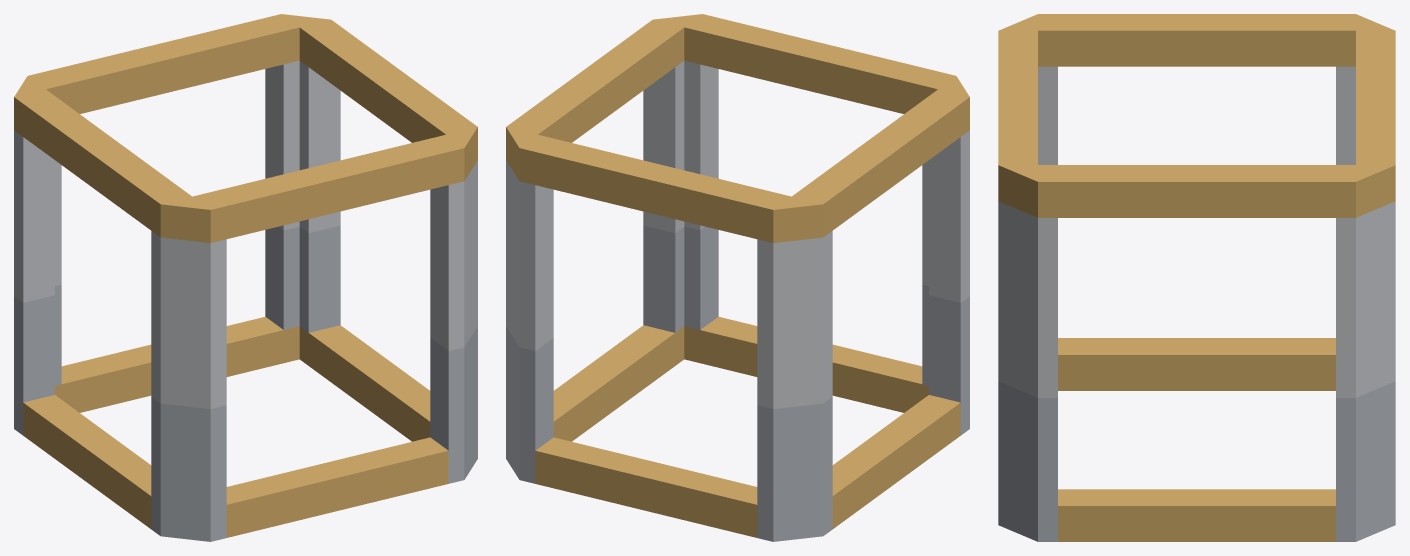
File: structure_detailed.glb
3 renders of one model, left to right at view 1: azimuth 30°, elevation 25°; view 2: azimuth 150°, elevation 25°; view 3: azimuth 270°, elevation 25°, orthographic. The views are drawn at different scales.
Visible parts, largest first — view 1: structure_detailed; view 2: structure_detailed; view 3: structure_detailed.
Boxes of the visible parts, x1,y1,x2,y2 form: structure_detailed: (14,14,477,541); structure_detailed: (506,14,969,541); structure_detailed: (998,14,1395,541).
Bounding box in the file's own units: 1 × 1 × 1.
